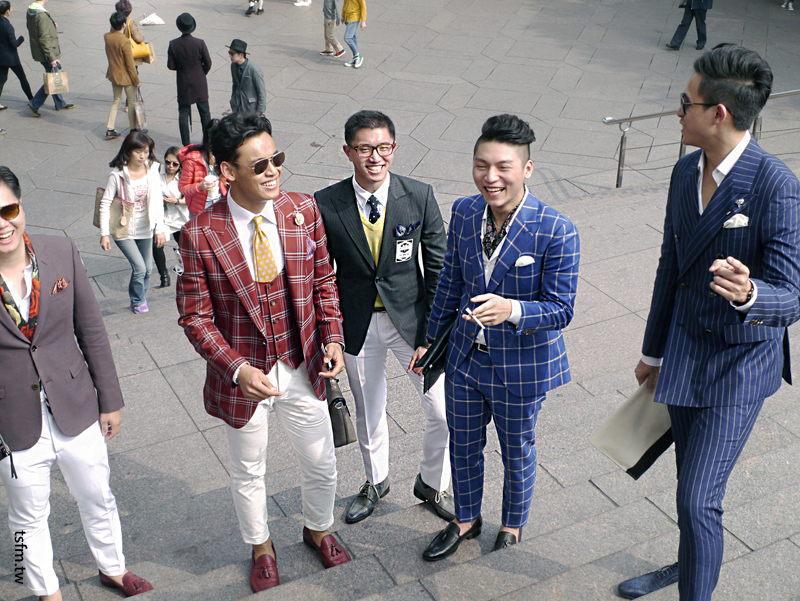feet: (231, 517, 356, 592), (413, 503, 550, 571), (32, 534, 167, 601), (339, 464, 470, 526), (620, 530, 716, 601), (99, 114, 152, 141), (664, 28, 711, 56), (25, 92, 77, 117), (123, 281, 155, 317), (1, 87, 45, 113), (177, 132, 217, 150), (318, 42, 345, 59), (341, 52, 365, 69), (242, 4, 267, 20)
